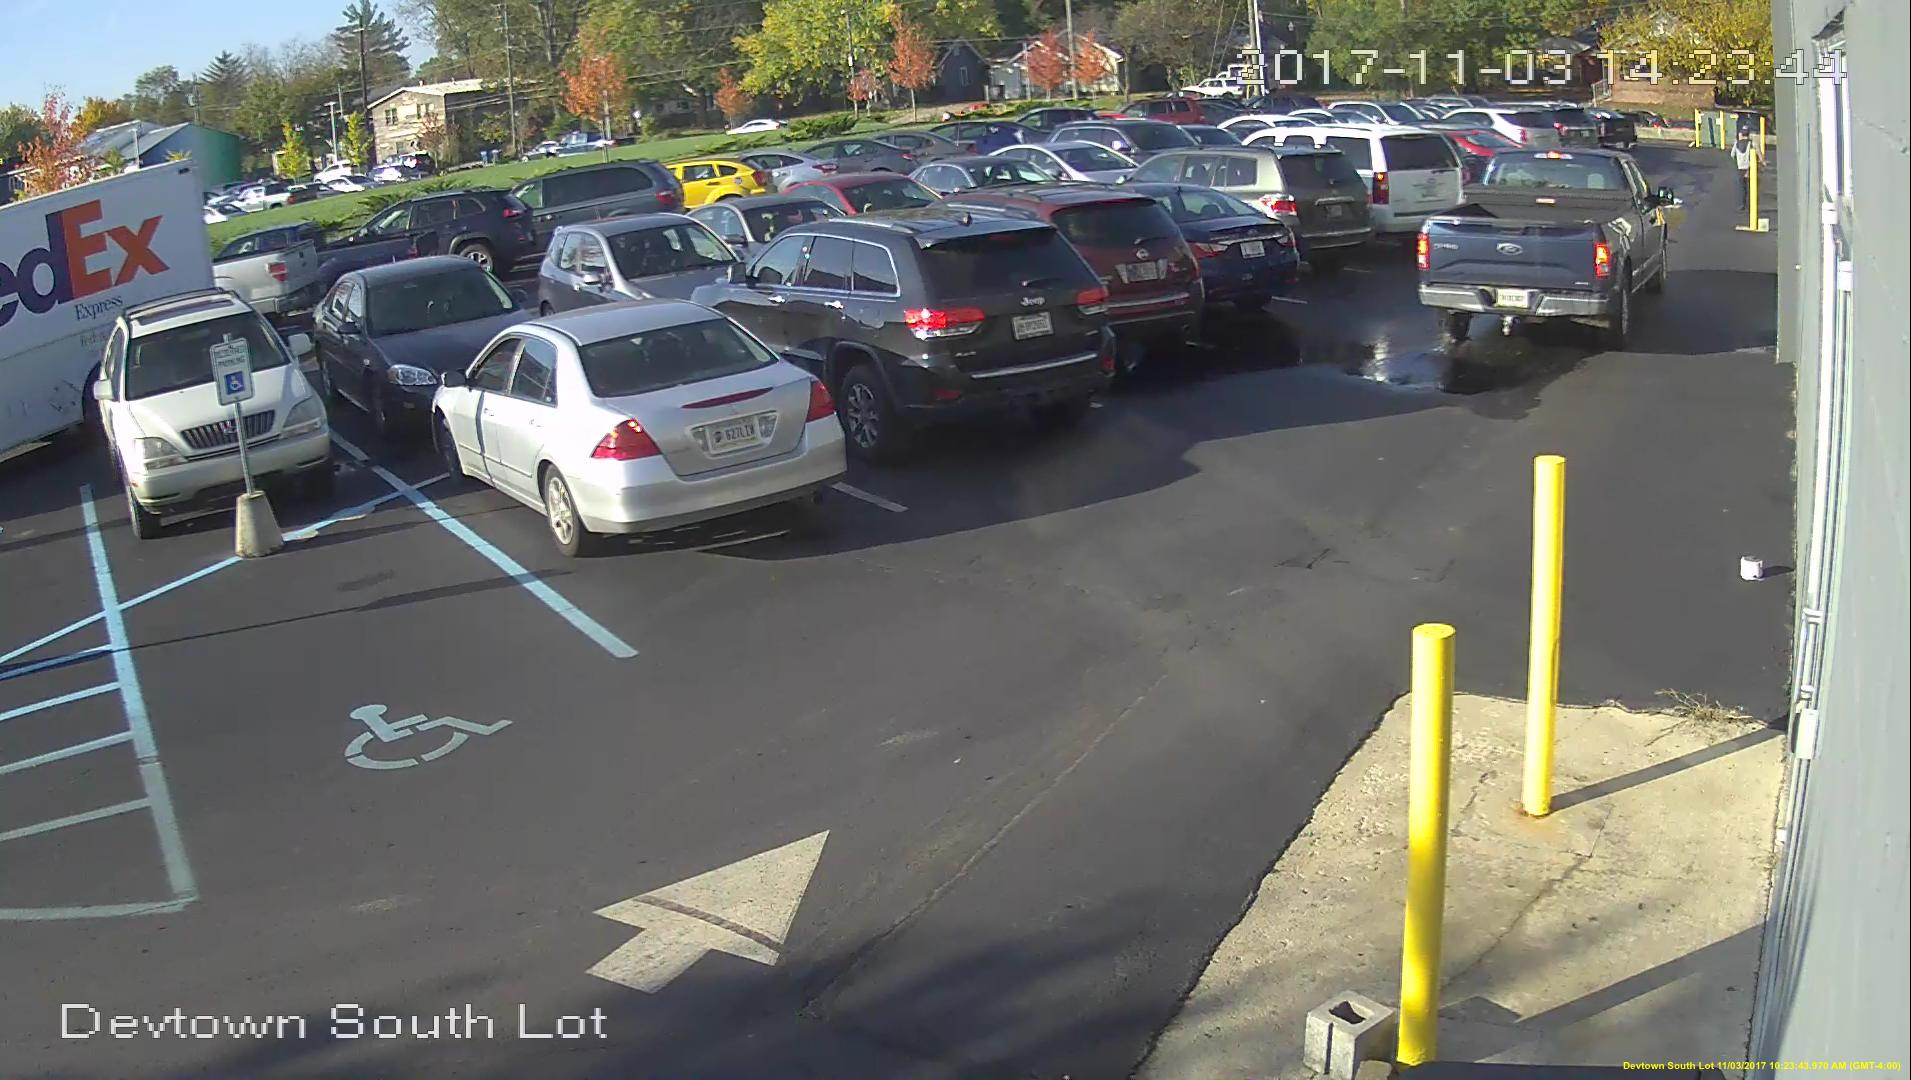fedex_truck: (1, 161, 218, 459)
